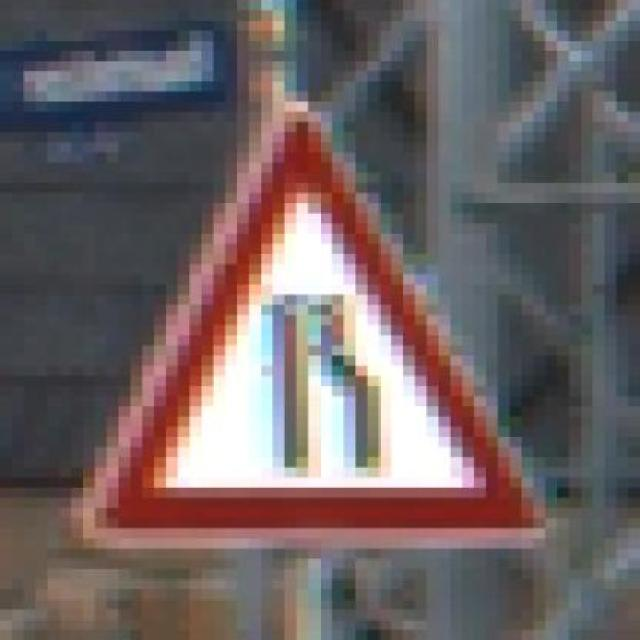-Road narrows on right: (47, 71, 558, 549)
